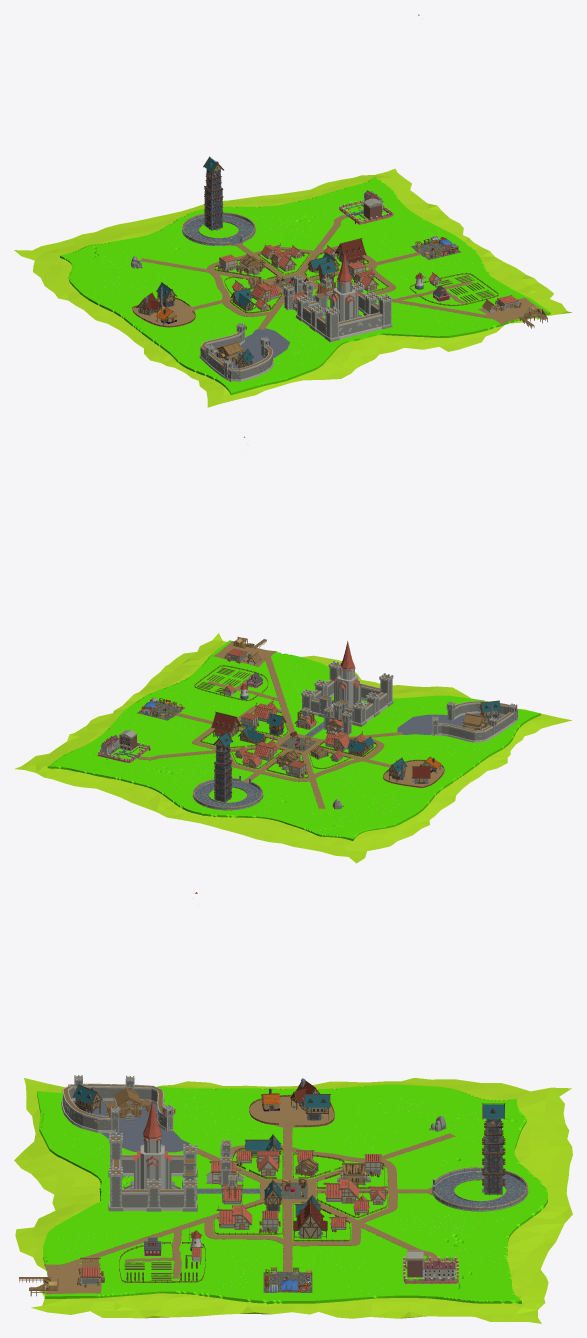
The model's file is island_model.glb.
3 views of the same model, one above another, from view 1: azimuth 30°, elevation 25°; view 2: azimuth 150°, elevation 25°; view 3: azimuth 270°, elevation 25° (orthographic). The views are drawn at different scales.
Parts seen in each view (by area): view 1: Cube.003, Cube.002, path, WonderWalls_SecondAge, Wall_SecondAge.002, House_3.001, Temple_SecondAge_Level2, Grid, Path_Straight.001, Plane.001, Barracks_SecondAge_Level3, Plane (+2 smaller); view 2: Cube.003, Cube.002, path, WonderWalls_SecondAge, Wall_SecondAge.002, House_3.001, Temple_SecondAge_Level2, Grid, Path_Straight.001, Barracks_SecondAge_Level3, Plane.001, Inn; view 3: Cube.003, Cube.002, path, WonderWalls_SecondAge, Wall_SecondAge.002, Temple_SecondAge_Level2, House_3.001, Grid, Path_Straight.001, Plane.001, Plane, Inn (+12 smaller).
Boxes of the visible parts, x1=… form: Cube.003: x1=60, y1=177, x2=550, y2=395; Cube.002: x1=14, y1=168, x2=571, y2=407; path: x1=140, y1=215, x2=503, y2=329; WonderWalls_SecondAge: x1=295, y1=281, x2=392, y2=342; Wall_SecondAge.002: x1=199, y1=332, x2=273, y2=381; House_3.001: x1=203, y1=156, x2=223, y2=230; Temple_SecondAge_Level2: x1=325, y1=253, x2=361, y2=321; Grid: x1=214, y1=328, x2=289, y2=368; Path_Straight.001: x1=182, y1=215, x2=255, y2=245; Plane.001: x1=132, y1=299, x2=195, y2=327; Barracks_SecondAge_Level3: x1=283, y1=274, x2=313, y2=311; Plane: x1=478, y1=297, x2=546, y2=324; Cube.003: x1=47, y1=640, x2=540, y2=840; Cube.002: x1=15, y1=633, x2=571, y2=863; path: x1=137, y1=653, x2=402, y2=808; WonderWalls_SecondAge: x1=301, y1=660, x2=393, y2=726; Wall_SecondAge.002: x1=435, y1=701, x2=518, y2=742; House_3.001: x1=213, y1=731, x2=233, y2=802; Temple_SecondAge_Level2: x1=331, y1=641, x2=366, y2=708; Grid: x1=397, y1=713, x2=503, y2=735; Path_Straight.001: x1=192, y1=781, x2=263, y2=810; Barracks_SecondAge_Level3: x1=323, y1=701, x2=352, y2=735; Plane.001: x1=383, y1=761, x2=444, y2=788; Inn: x1=211, y1=711, x2=241, y2=737; Cube.003: x1=37, y1=1084, x2=547, y2=1304; Cube.002: x1=14, y1=1078, x2=572, y2=1323; path: x1=55, y1=1127, x2=455, y2=1278; WonderWalls_SecondAge: x1=108, y1=1133, x2=197, y2=1211; Wall_SecondAge.002: x1=61, y1=1083, x2=170, y2=1133; Temple_SecondAge_Level2: x1=124, y1=1100, x2=180, y2=1189; House_3.001: x1=482, y1=1103, x2=505, y2=1195; Grid: x1=73, y1=1100, x2=190, y2=1152; Path_Straight.001: x1=432, y1=1171, x2=528, y2=1211; Plane.001: x1=249, y1=1096, x2=334, y2=1127; Plane: x1=44, y1=1263, x2=101, y2=1294; Inn: x1=293, y1=1199, x2=327, y2=1238.
Bounding box in the file's own units: 308 × 212 × 296.
1242 materials, 7 textured.
